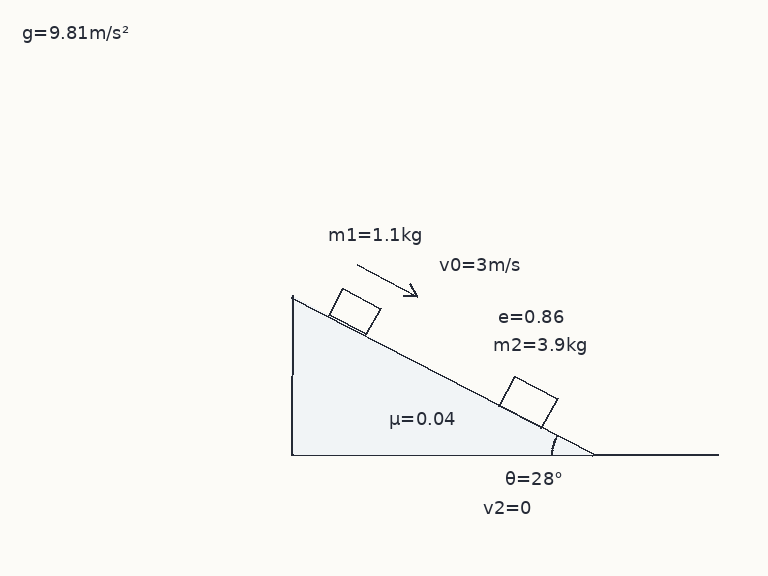block: (497, 374, 558, 429), (327, 286, 382, 337)
ramp: (290, 293, 594, 457)
